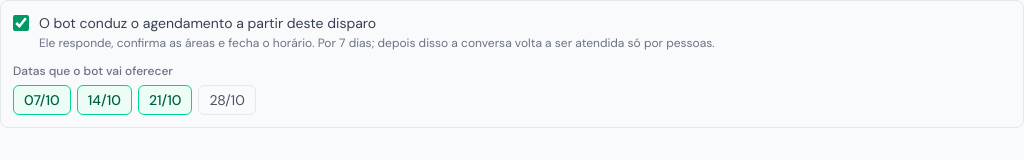
Test case: CampanhaDoBot › esconde as datas quando o bot não assume
Click the checkbox at (21, 23), box [13,15,29,31]
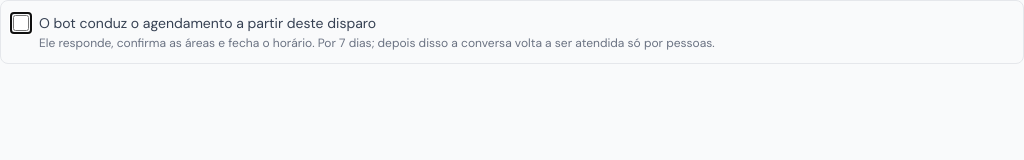
Now the button "07/10" is gone
